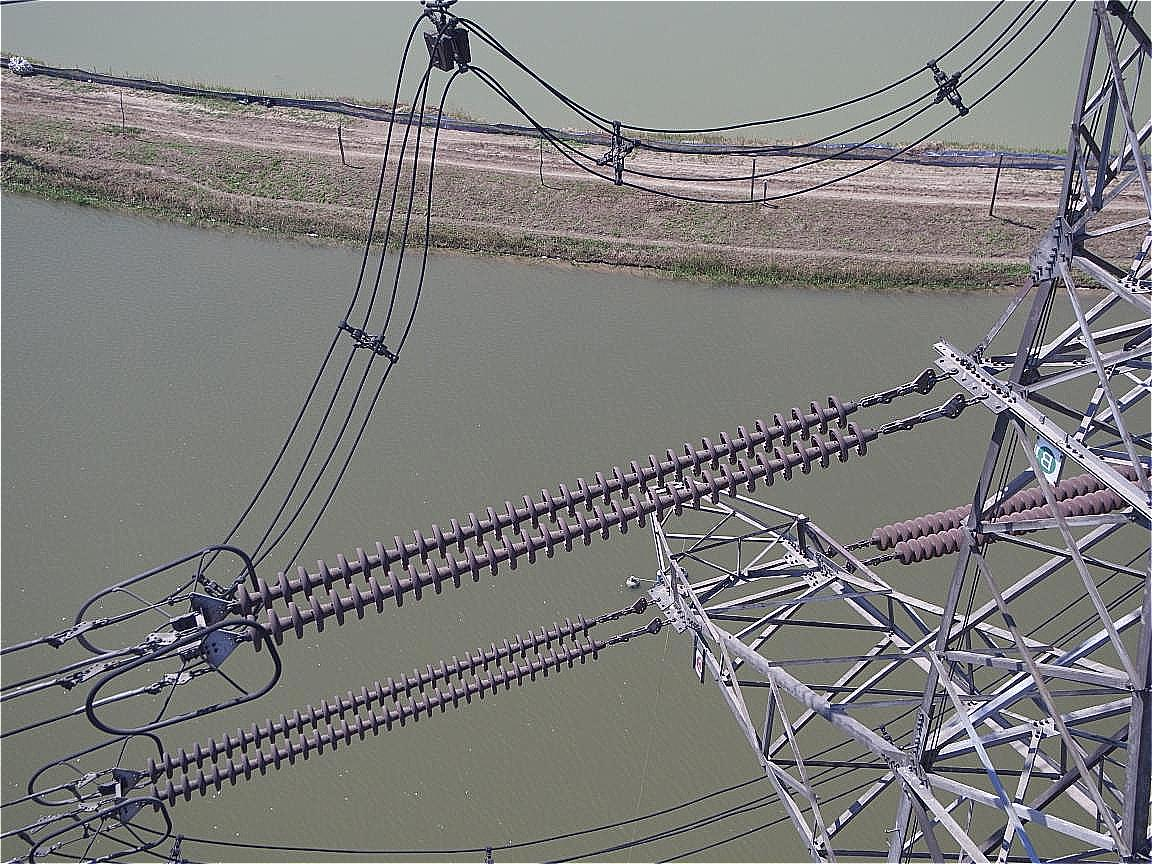insultor1: (213, 387, 906, 660), (117, 584, 637, 826)
